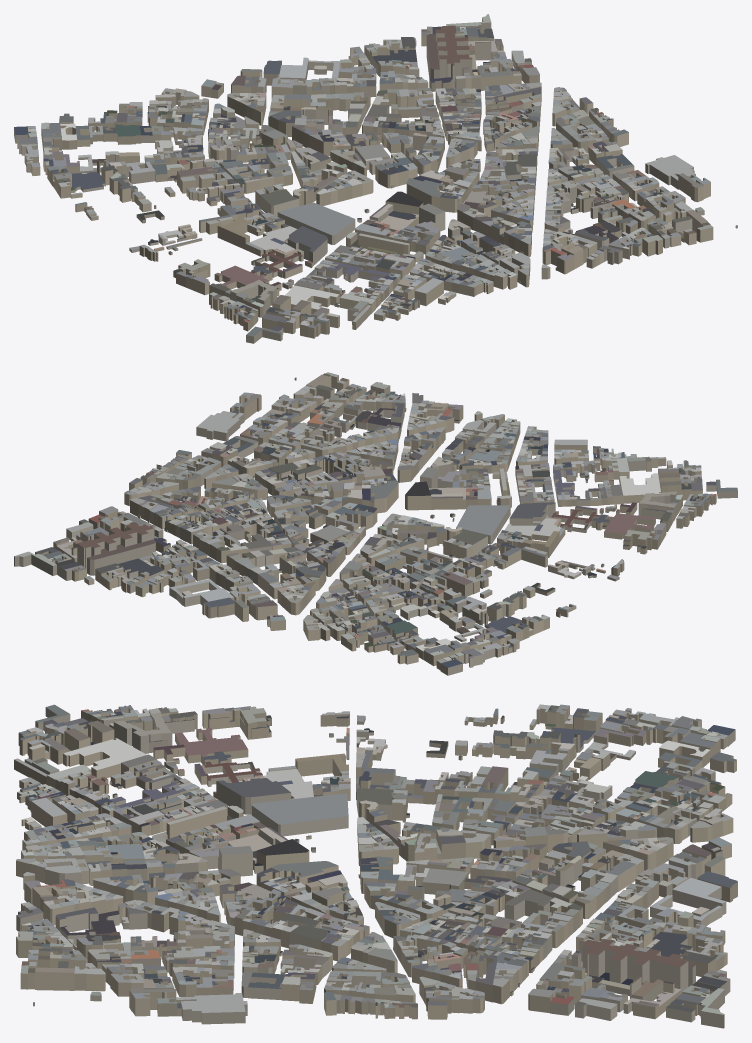
3 renders of one model, top to bottom at view 1: azimuth 30°, elevation 25°; view 2: azimuth 150°, elevation 25°; view 3: azimuth 270°, elevation 25°, orthographic. The views are drawn at different scales.
Visible parts, largest first — view 1: tuile; view 2: tuile; view 3: tuile.
Boxes of the visible parts, x1,y1,x2,y2 form: tuile: (14,14,737,343); tuile: (14,372,737,675); tuile: (14,704,737,1028).
Bounding box in the file's own units: 1055 × 50.62 × 1035.
